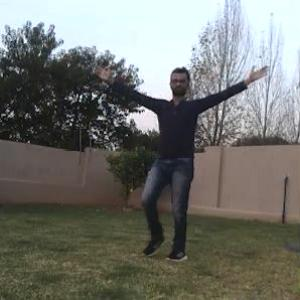takeoff: (112, 73, 277, 263)
